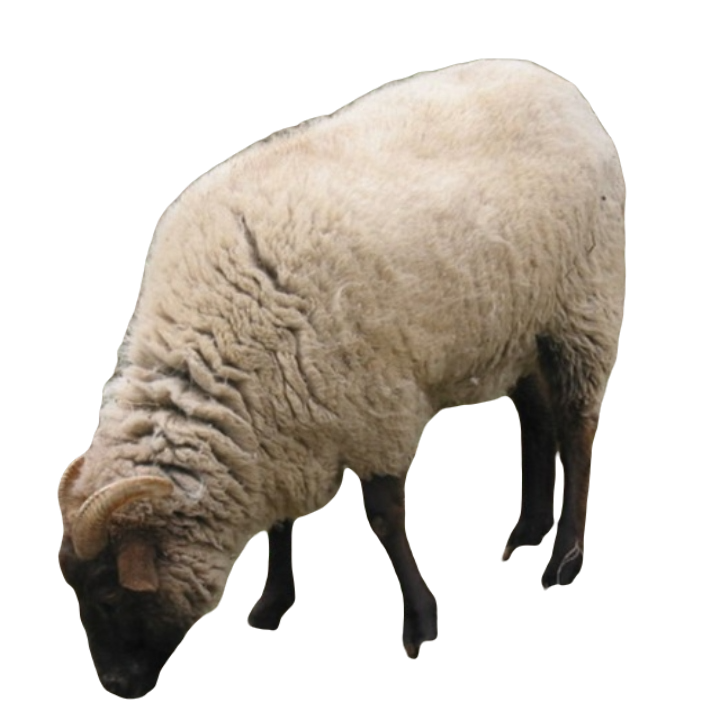Sheep: (53, 54, 636, 701)
